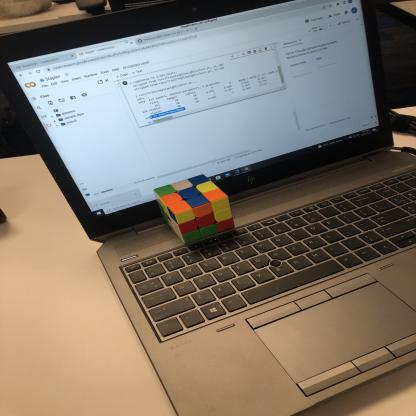UnsolvedCube: (153, 173, 245, 247)
